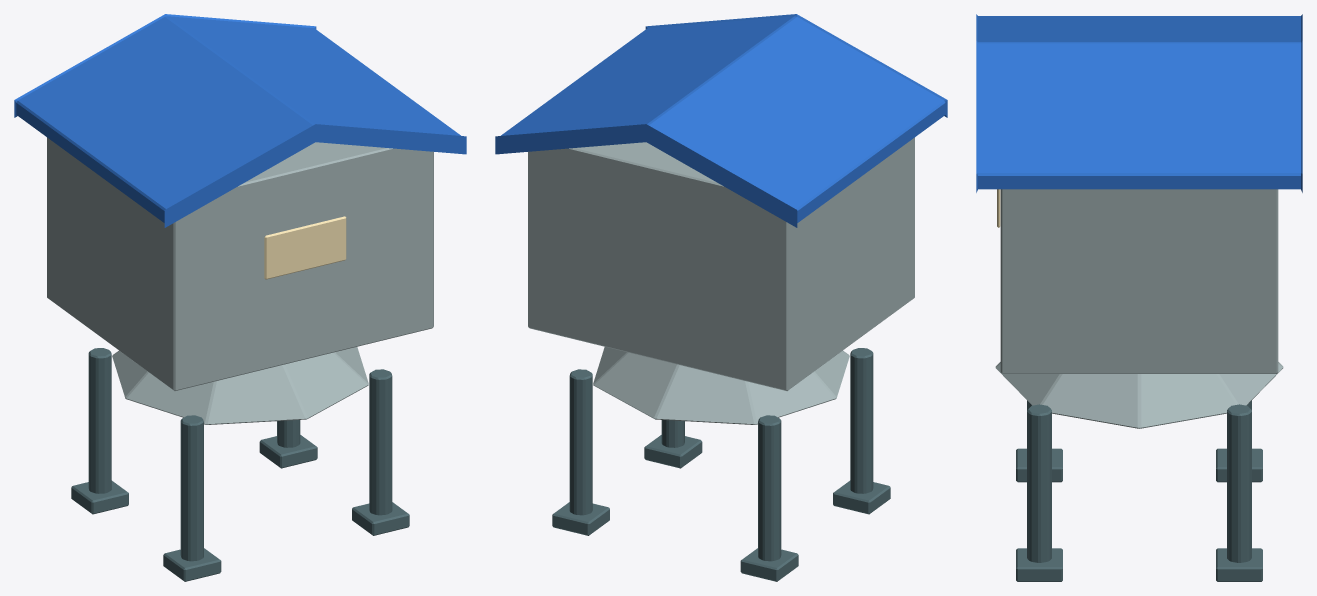
The model's file is FTF_Building_FarmFeedBin_3_8m_BlueRoof.glb.
3 renders of one model, left to right at view 1: azimuth 30°, elevation 25°; view 2: azimuth 150°, elevation 25°; view 3: azimuth 270°, elevation 25°, orthographic. The views are drawn at different scales.
Visible parts, largest first — view 1: FTF_Building_FarmFeedBin_3_8m_BlueRoof_Mesh; view 2: FTF_Building_FarmFeedBin_3_8m_BlueRoof_Mesh; view 3: FTF_Building_FarmFeedBin_3_8m_BlueRoof_Mesh.
Boxes of the visible parts, x1,y1,x2,y2 form: FTF_Building_FarmFeedBin_3_8m_BlueRoof_Mesh: [14, 14, 466, 581]; FTF_Building_FarmFeedBin_3_8m_BlueRoof_Mesh: [495, 14, 947, 581]; FTF_Building_FarmFeedBin_3_8m_BlueRoof_Mesh: [976, 14, 1302, 581].
Size of the model in its own units: 2.73 by 3.83 by 2.35.
